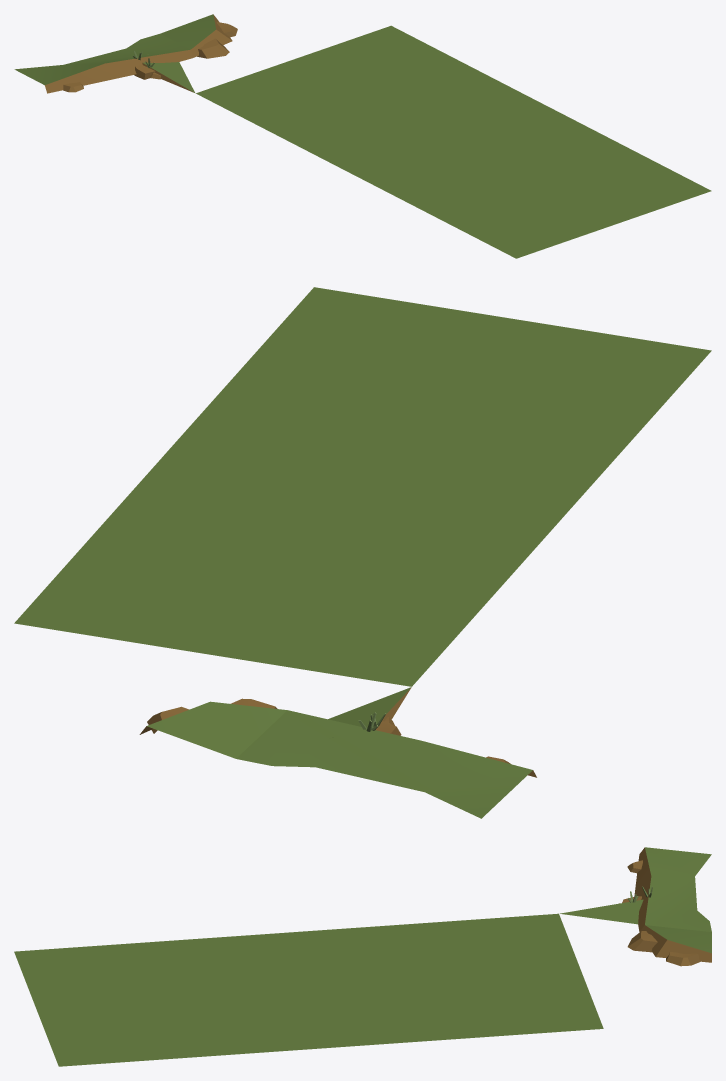
Rendered from Grass2.fbx.
3 renders of one model, top to bottom at view 1: azimuth 30°, elevation 25°; view 2: azimuth 150°, elevation 25°; view 3: azimuth 270°, elevation 25°, orthographic. The views are drawn at different scales.
Parts seen in each view (by area): view 1: Grass2; view 2: Grass2; view 3: Grass2.
Part boxes in pixels (x1,y1,x2,y2): Grass2: (14,14,711,258); Grass2: (14,287,711,818); Grass2: (14,847,711,1066).
Size of the model in its own units: 54.6 by 2.44 by 75.82.
